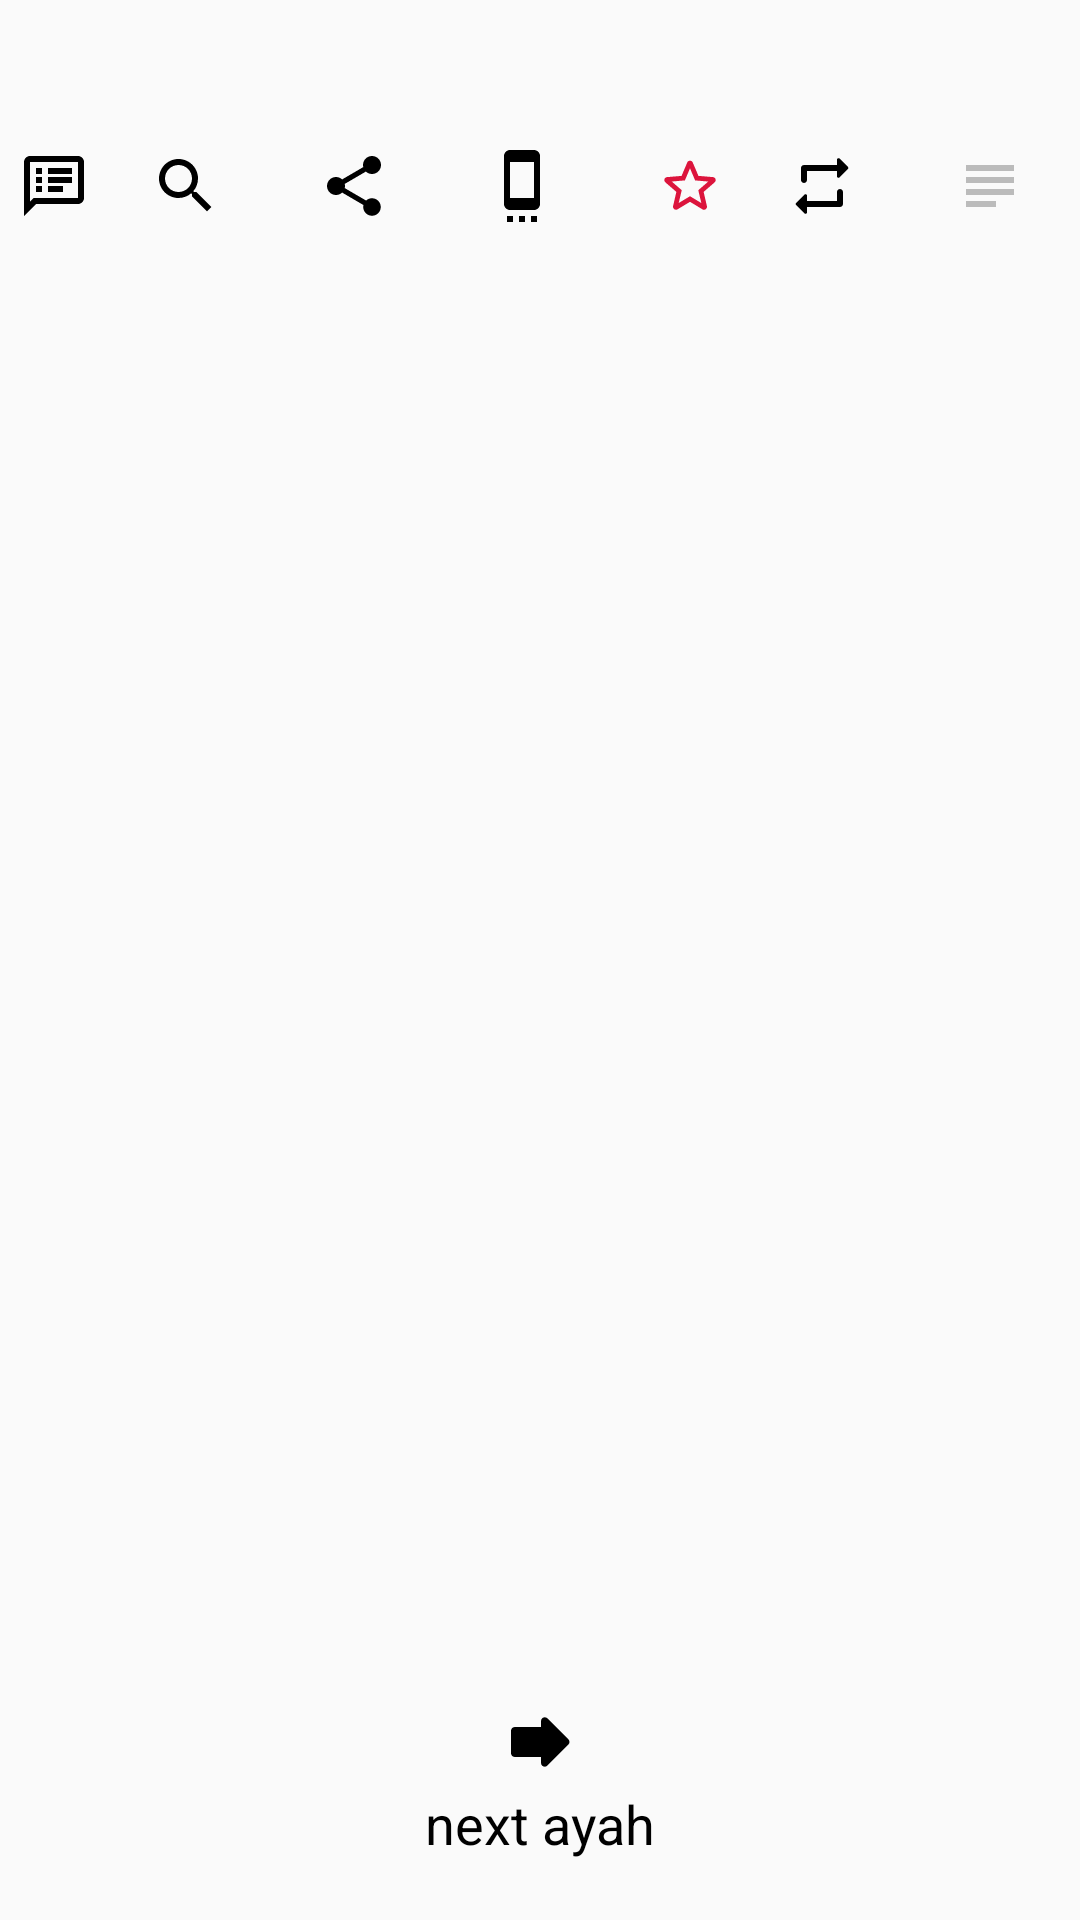

Locate icon controls on the screen. Image size 1080px x 1920px, boxes as bbox(x1, y1, x2, y2).
forward: bbox(511, 1717, 570, 1767)
note: bbox(24, 156, 84, 216)
repeat surah: bbox(795, 158, 849, 214)
search: bbox(159, 159, 211, 211)
share: bbox(327, 156, 381, 216)
star empty: bbox(664, 160, 716, 210)
